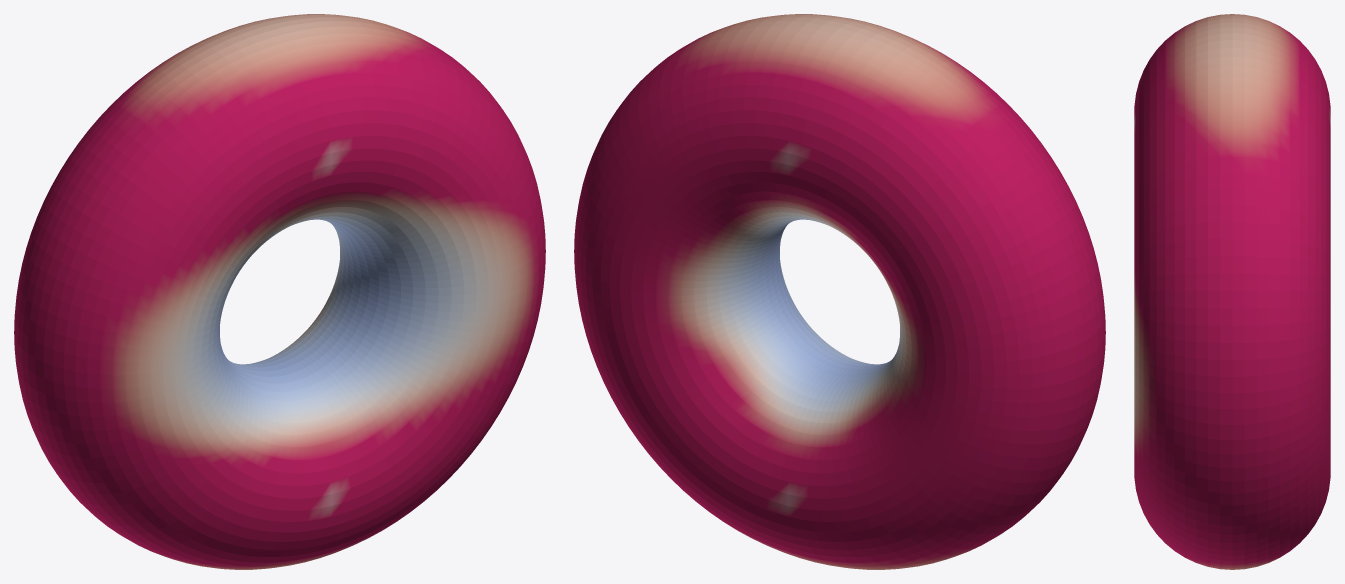
3 views of the same model, side by side, from view 1: azimuth 30°, elevation 25°; view 2: azimuth 150°, elevation 25°; view 3: azimuth 270°, elevation 25° (orthographic). The views are drawn at different scales.
Visible parts, largest first — view 1: world; view 2: world; view 3: world.
Boxes of the visible parts, <box> form: world: <box>14,14,545,569</box>; world: <box>574,14,1105,569</box>; world: <box>1134,14,1330,569</box>.
Bounding box in the file's own units: 25.78 × 25.78 × 9.09.
